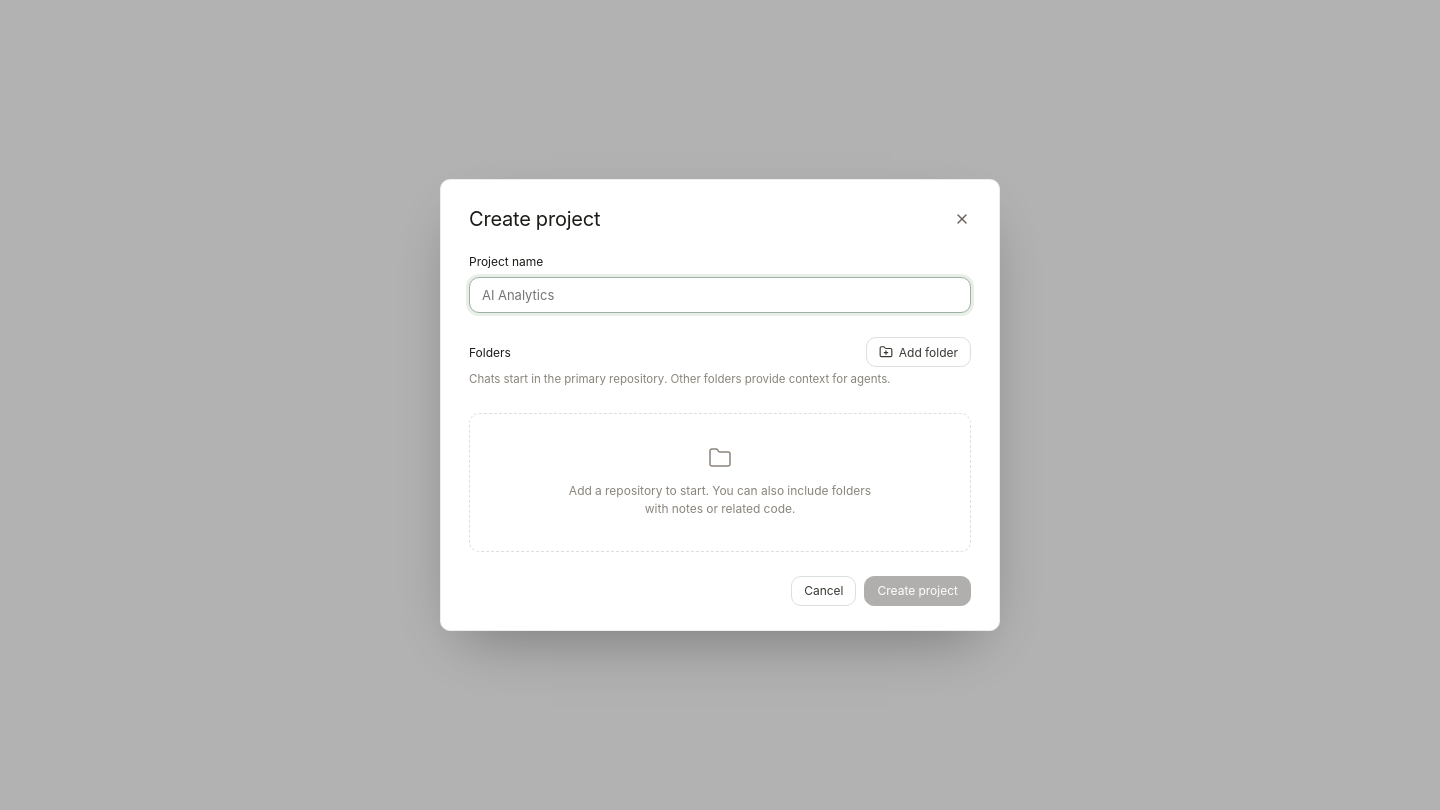
it: NewProjectDialog › shows a note when the picked folder is already in the project and clears it on the next change
Step 1. Click the button "Add folder" → (918,352), box [866, 337, 971, 367]
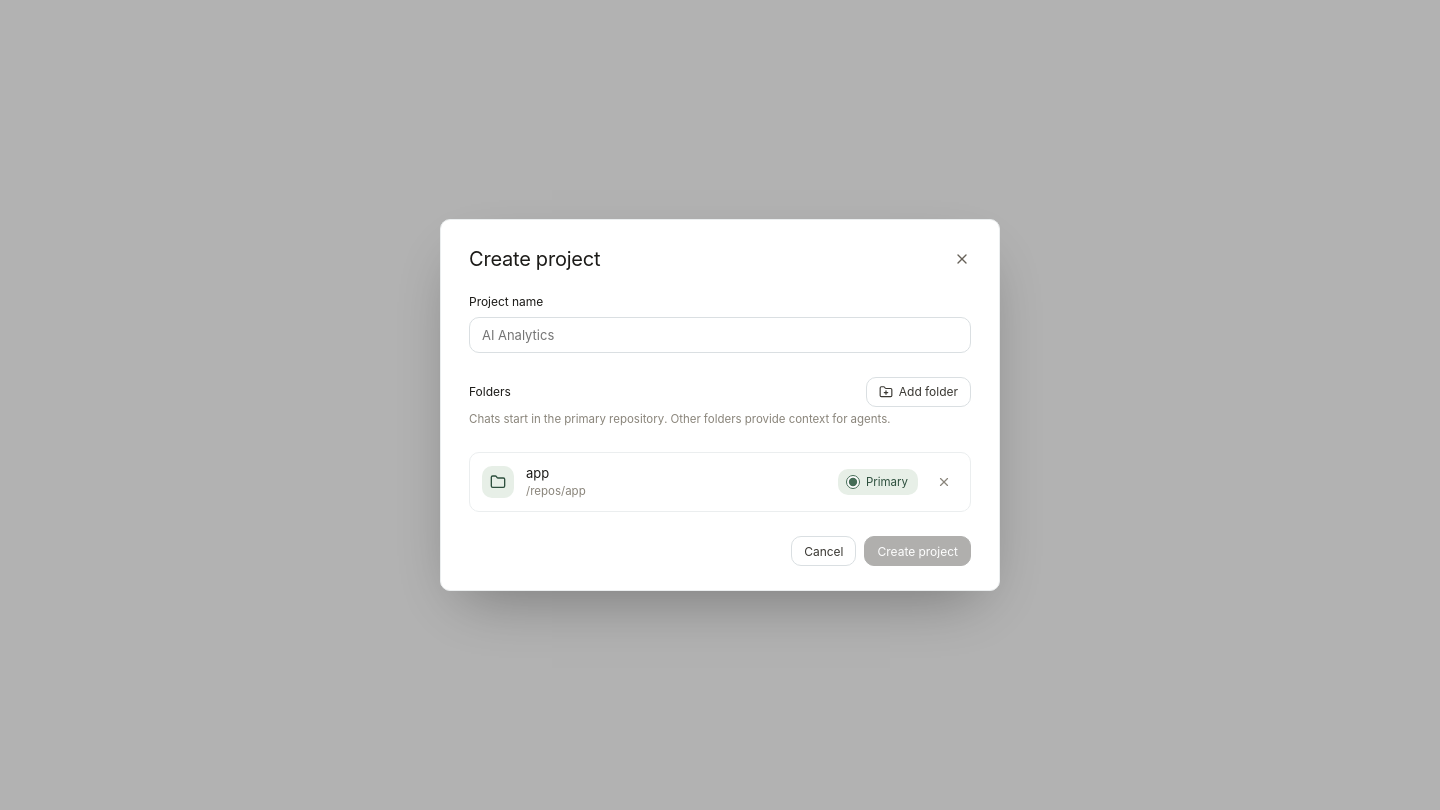
Check: the text "app" is shown, box [526, 465, 549, 481]
Step 2. Click the button "Add folder" → (918,392), box [866, 376, 971, 406]
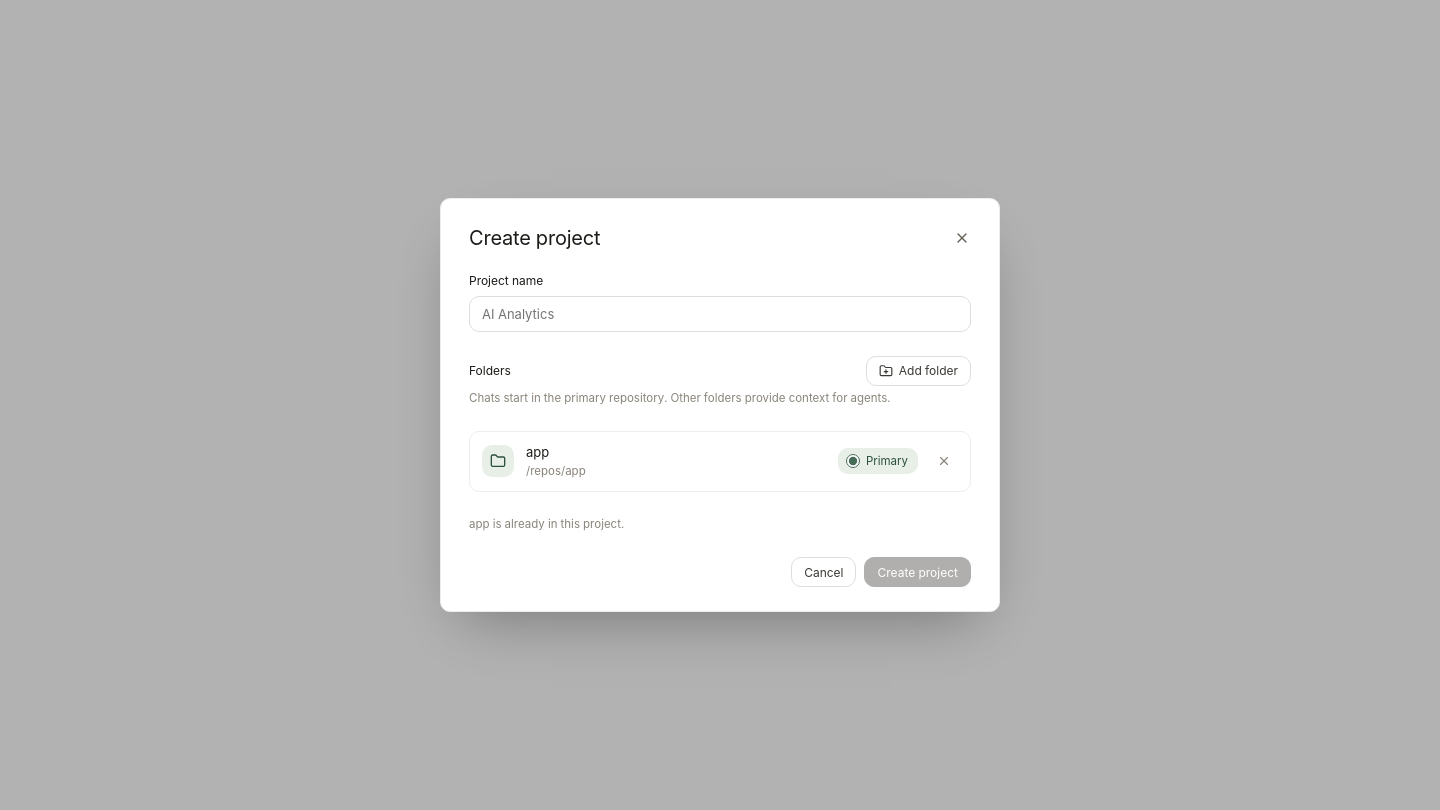
Check: the text "app is already in this project." is shown, box [469, 517, 624, 531]
Step 3. Type "AI" into the field labelled "Project name" → (720,314), box [469, 296, 971, 332]
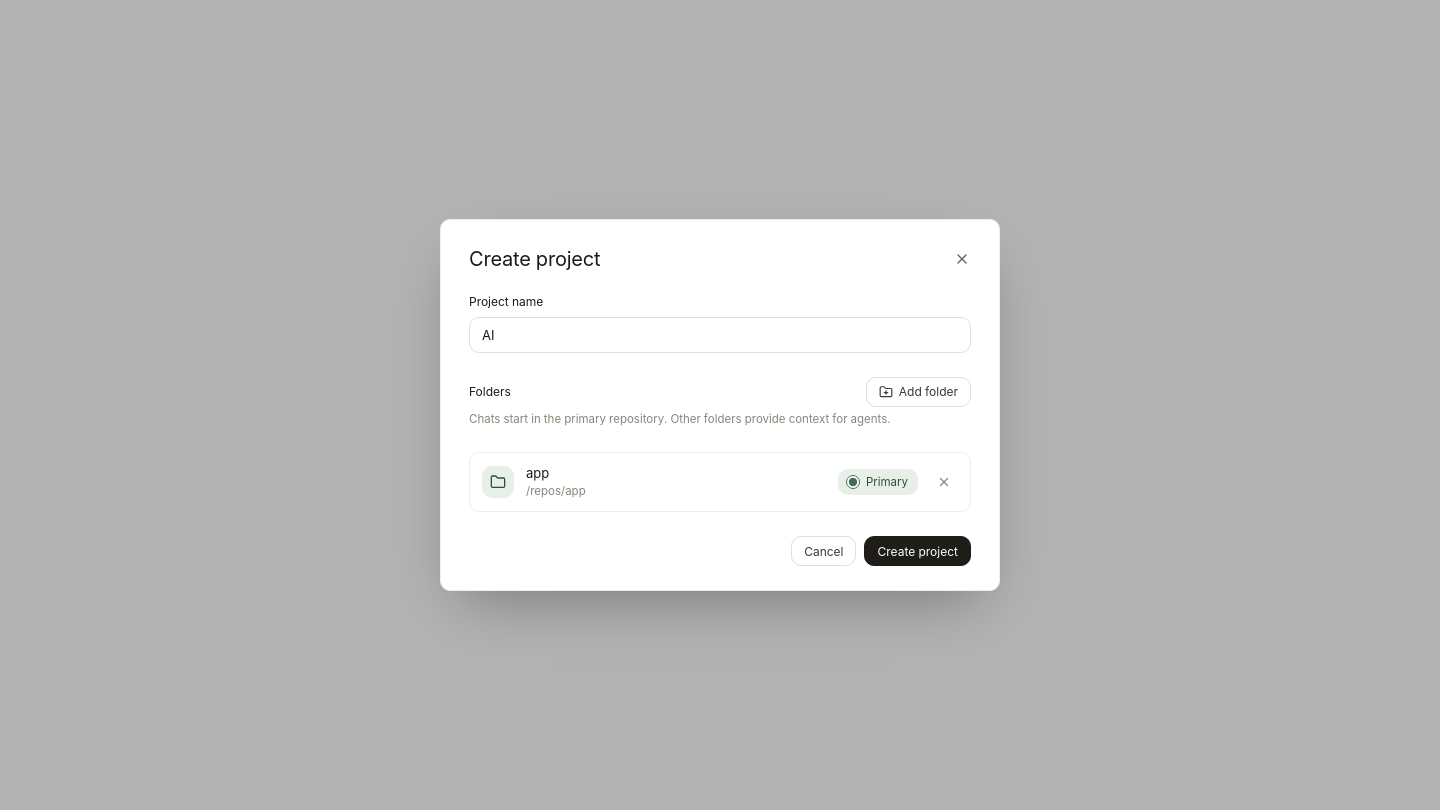
Check: the text "app is already in this project." is gone
